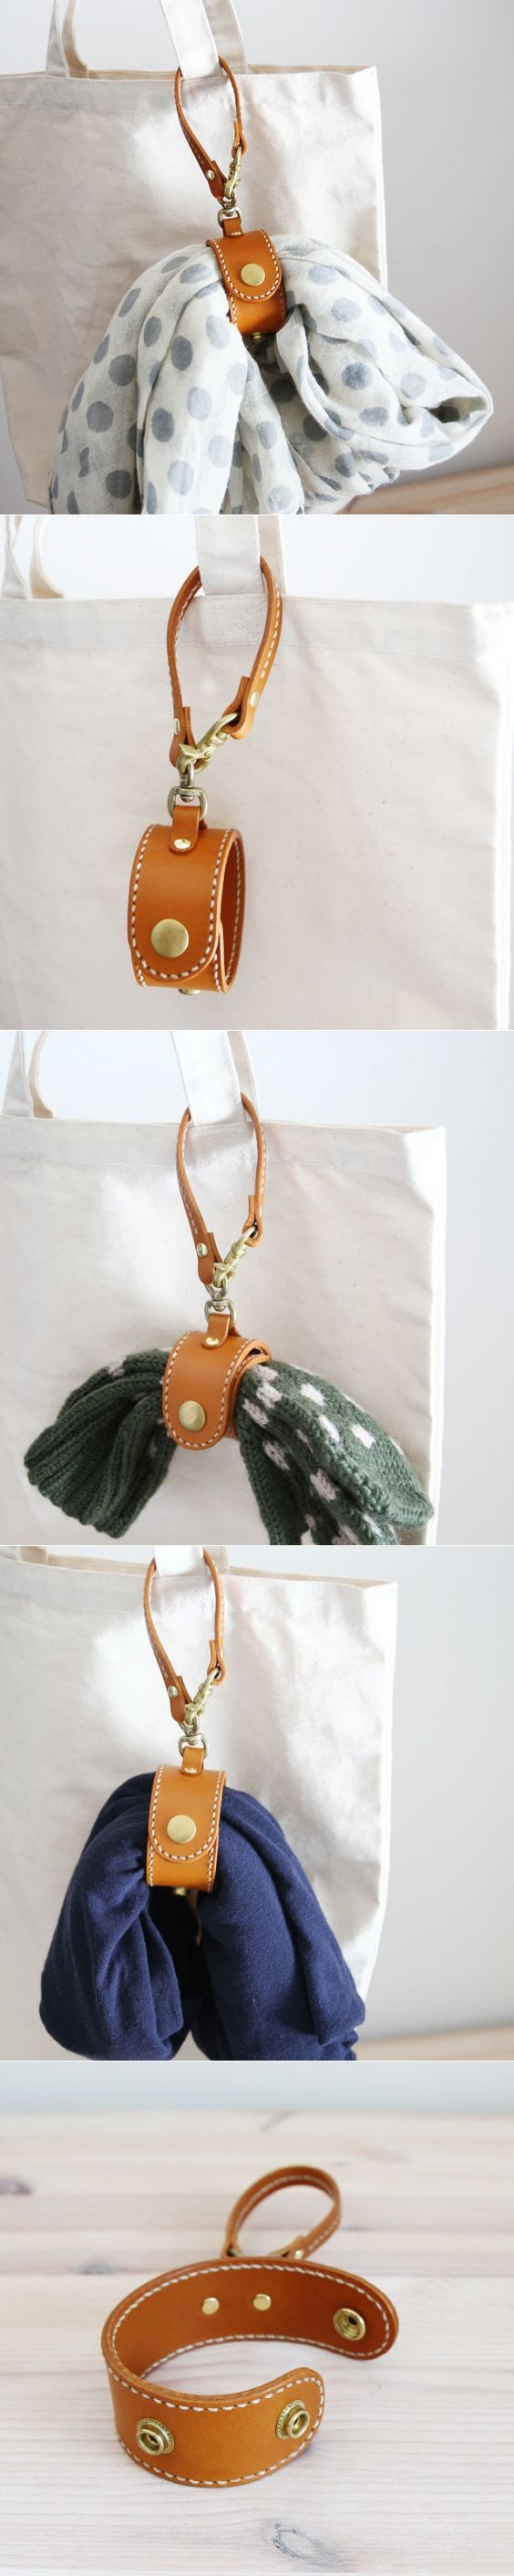cuero: (99, 230, 399, 2484)
